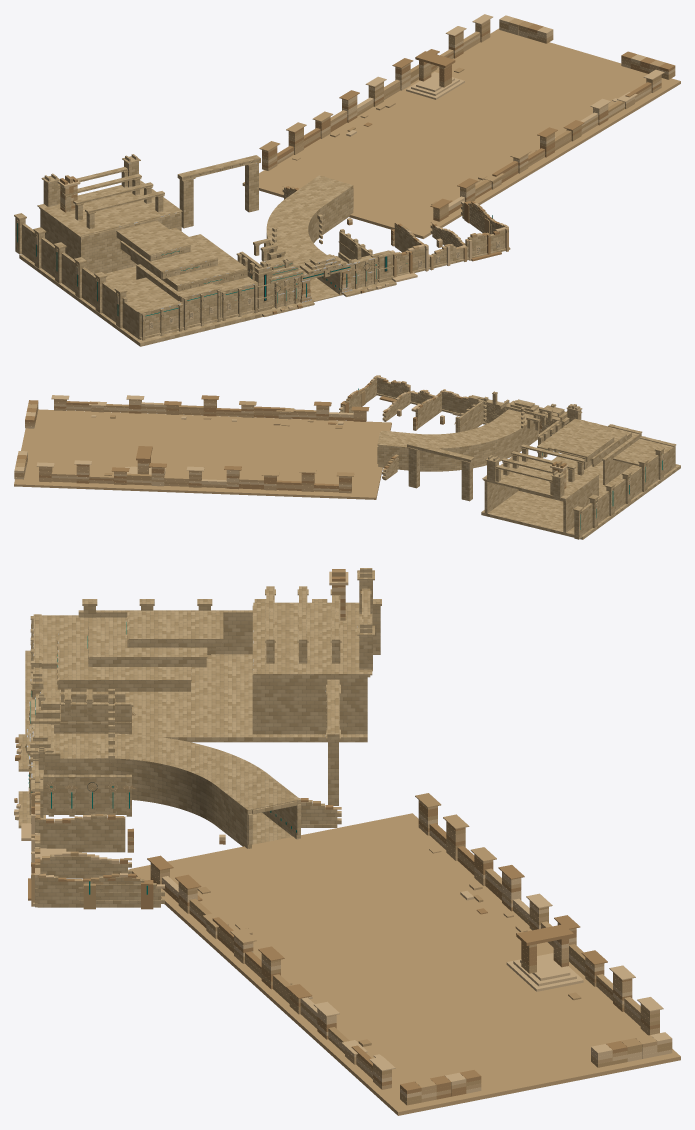
File: Ruins_Field_Alpha_PanelCorridor.obj
The picture shows the model from 3 angles, top to bottom: view 1: azimuth 30°, elevation 25°; view 2: azimuth 150°, elevation 25°; view 3: azimuth 270°, elevation 25°; orthographic projection. The views are drawn at different scales.
Parts seen in each view (by area): view 1: Ruins_Field_Alpha_PanelCorridor; view 2: Ruins_Field_Alpha_PanelCorridor; view 3: Ruins_Field_Alpha_PanelCorridor.
Boxes of the visible parts, x1,y1,x2,y2 form: Ruins_Field_Alpha_PanelCorridor: (14,14,680,346); Ruins_Field_Alpha_PanelCorridor: (14,375,680,539); Ruins_Field_Alpha_PanelCorridor: (14,568,680,1115).
Bounding box in the file's own units: 1606 × 182 × 975.
10 materials, 1 textured.
